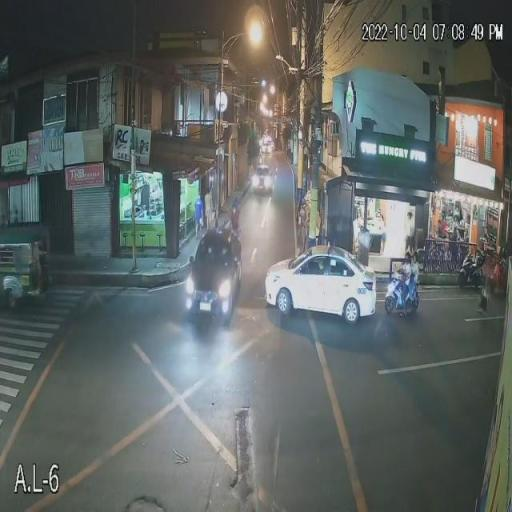helmet: (412, 251, 420, 265), (404, 251, 412, 263)
motorcycle: (384, 280, 420, 316)
rider: (402, 263, 412, 317), (410, 264, 419, 308)
